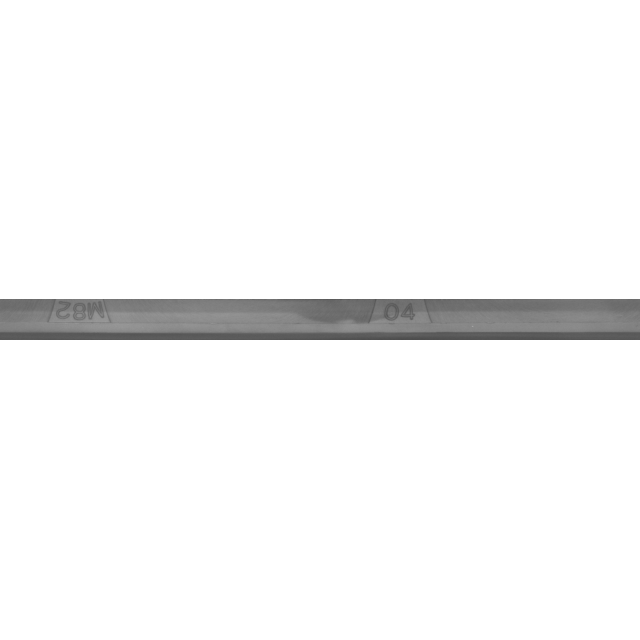mohao: (0, 270, 183, 370)
xuehao: (306, 270, 506, 370)
